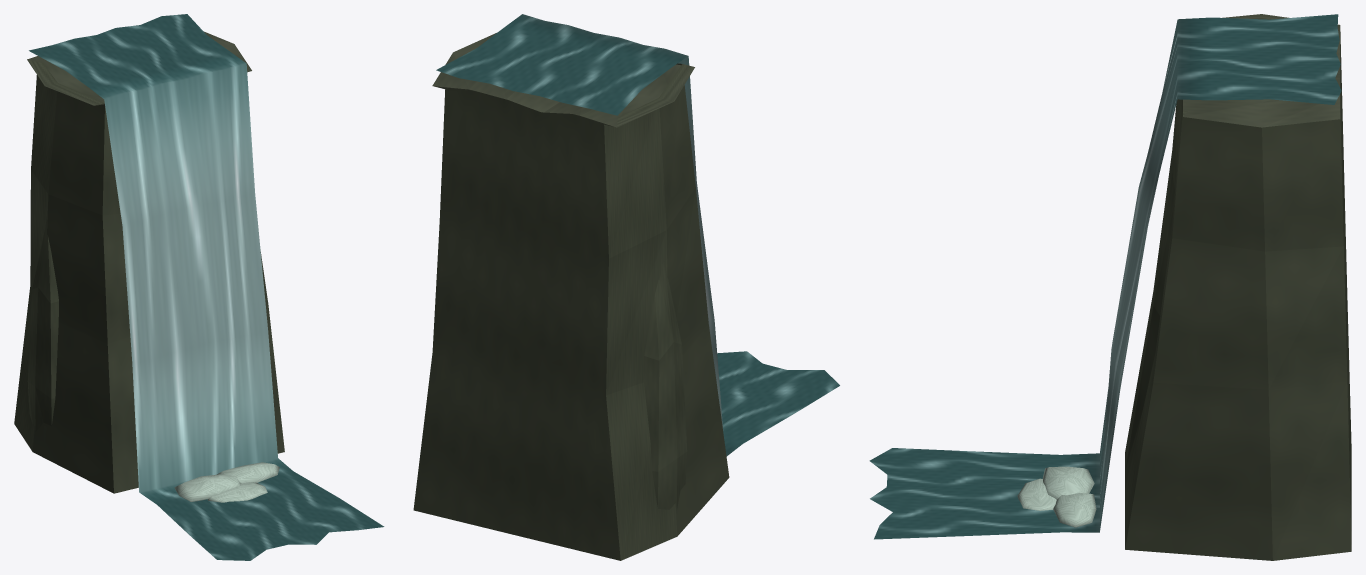
Rendered from fall-wide-lod1.glb.
3 renders of one model, left to right at view 1: azimuth 30°, elevation 25°; view 2: azimuth 150°, elevation 25°; view 3: azimuth 270°, elevation 25°, orthographic. The views are drawn at different scales.
Size of the model in its own units: 0.582 by 1 by 0.9921.
1 material, 1 textured.
